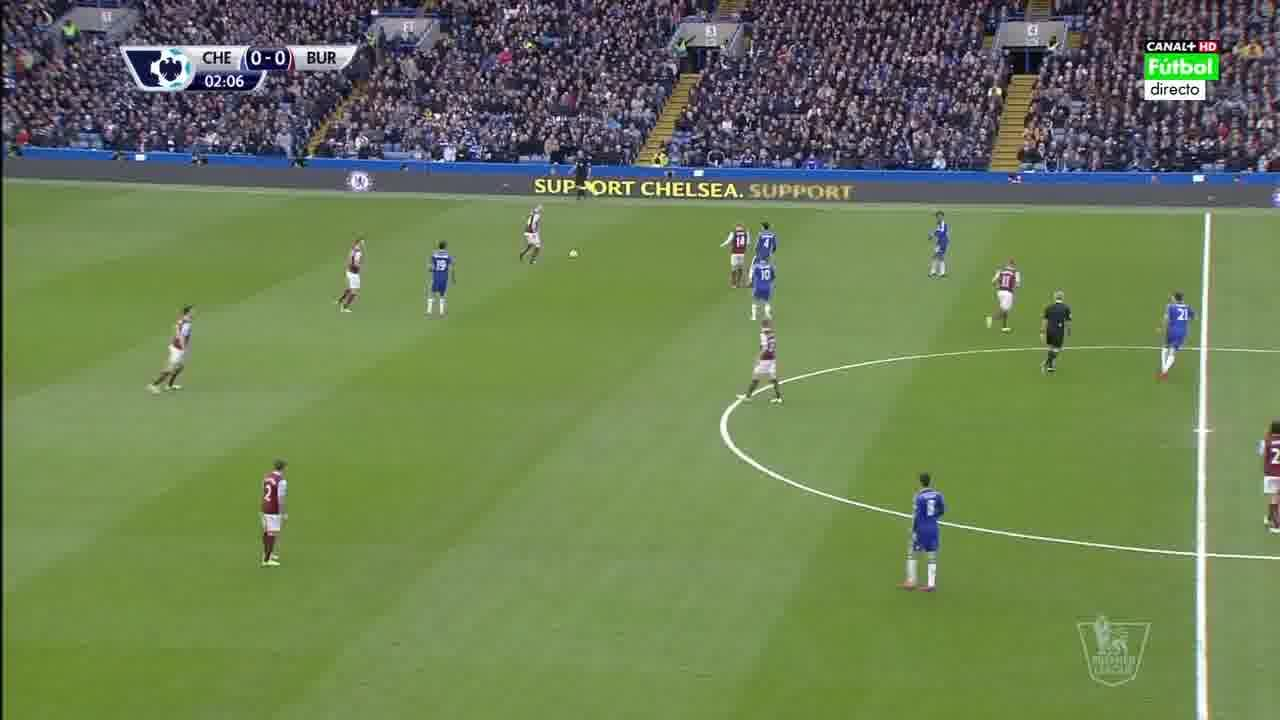football: (569, 249, 579, 259)
